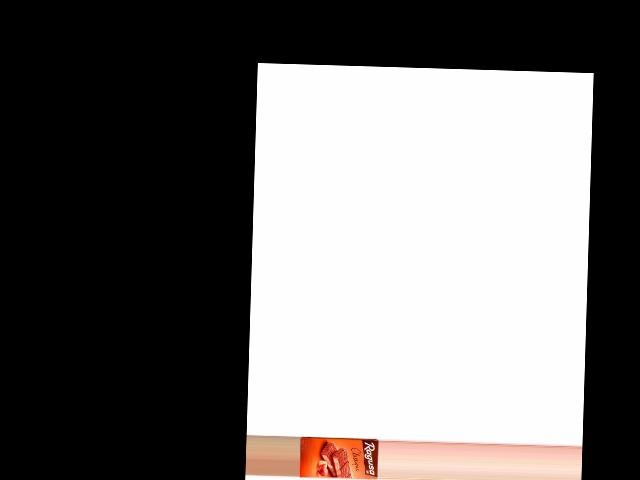chocolate: (298, 434, 377, 480)
